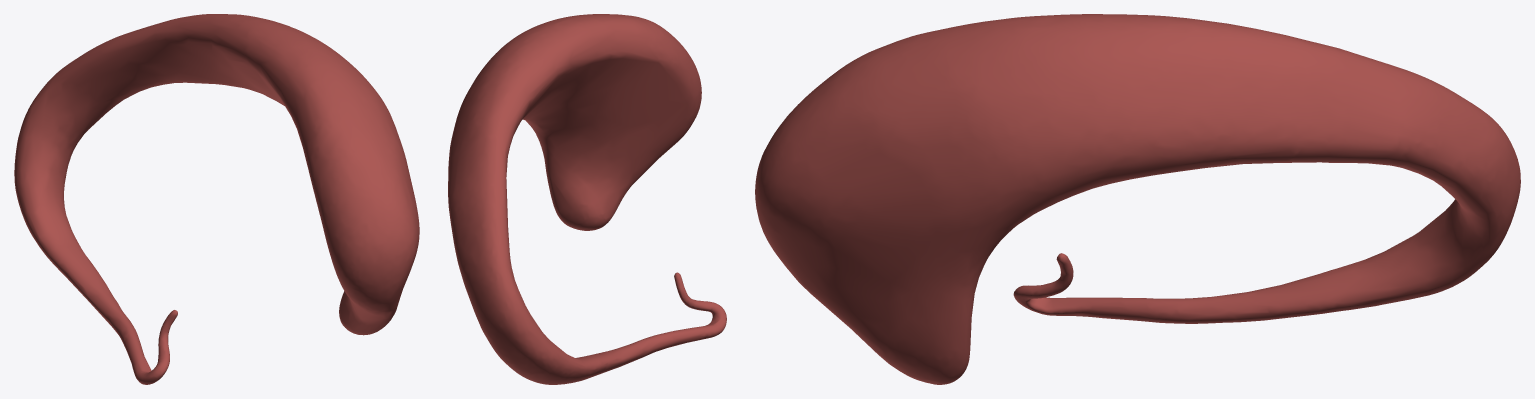
Rendered from FMA72826.glb.
3 views of the same model, side by side, from view 1: azimuth 30°, elevation 25°; view 2: azimuth 150°, elevation 25°; view 3: azimuth 270°, elevation 25° (orthographic). The views are drawn at different scales.
Parts seen in each view (by area): view 1: FMA72826; view 2: FMA72826; view 3: FMA72826.
Boxes of the visible parts, x1=… form: FMA72826: x1=14, y1=14, x2=419, y2=384; FMA72826: x1=448, y1=14, x2=726, y2=384; FMA72826: x1=755, y1=14, x2=1520, y2=384.
Bounding box in the file's own units: 0.0301 × 0.035 × 0.06.
